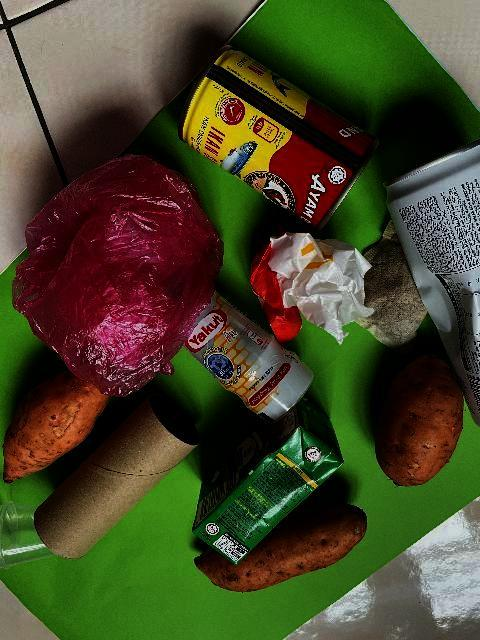drinkcan: (380, 129, 480, 429)
drinkpack: (192, 388, 344, 566)
foodcan: (177, 39, 382, 233)
paperbag: (246, 220, 378, 350)
plasticbag: (11, 153, 223, 400)
plasticbottle: (165, 278, 315, 429)
sweetpotato: (192, 501, 370, 594), (2, 362, 114, 484), (375, 352, 465, 488)
teabag: (342, 205, 428, 361)
